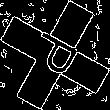P_SE: (24, 26, 86, 84)
